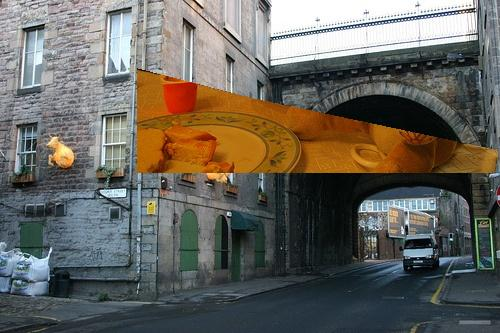tampered: (138, 69, 498, 173)
